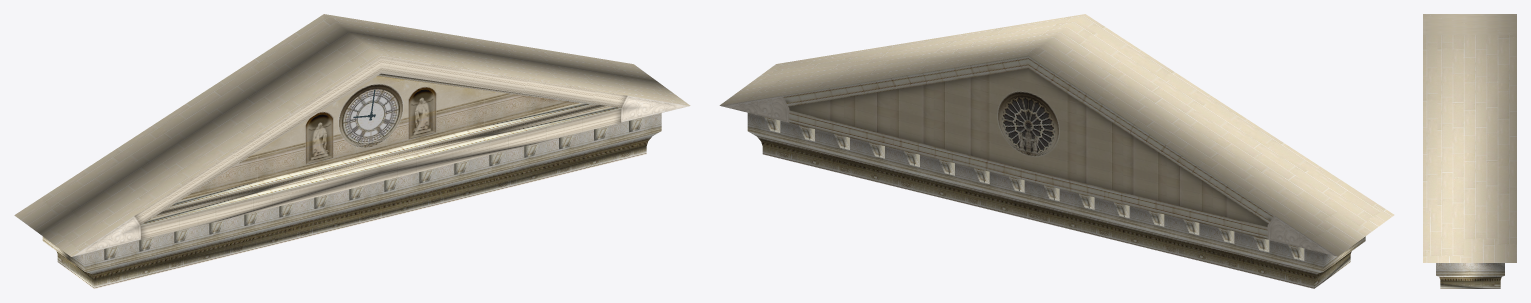
Rendered from pillar_002.fbx.
The picture shows the model from 3 angles, left to right: view 1: azimuth 30°, elevation 25°; view 2: azimuth 150°, elevation 25°; view 3: azimuth 270°, elevation 25°; orthographic projection. The views are drawn at different scales.
Parts seen in each view (by area): view 1: polySurface23; view 2: polySurface23; view 3: polySurface23.
Boxes of the visible parts, x1,y1,x2,y2 form: polySurface23: (14,14,690,288); polySurface23: (719,14,1394,288); polySurface23: (1423,14,1516,288).
Bounding box in the file's own units: 26.56 × 7.11 × 4.24.
